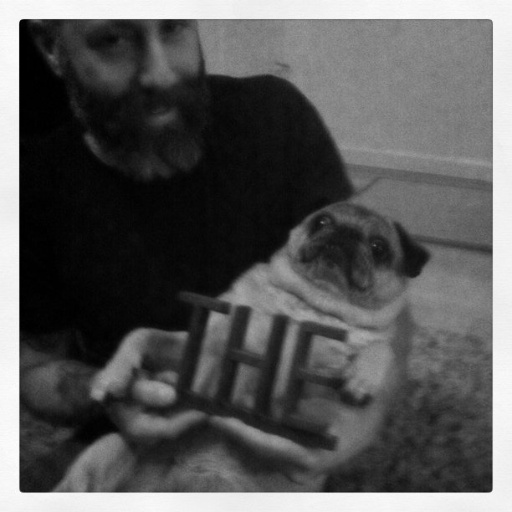hand: (99, 368, 215, 445)
